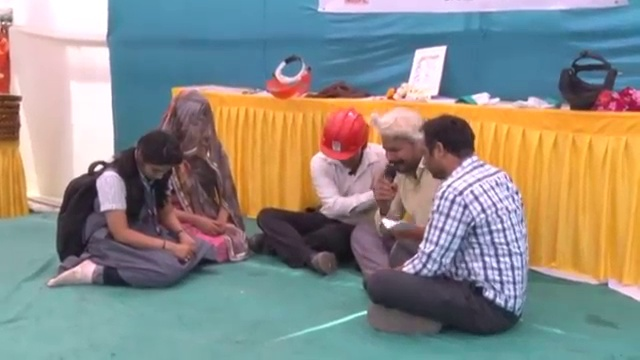helmet: (322, 111, 376, 163)
helmet_off: (418, 113, 479, 185), (165, 88, 218, 164), (375, 108, 428, 180), (126, 131, 182, 187)
helmet_on: (319, 109, 370, 177)
person: (348, 106, 539, 334), (50, 126, 202, 294), (256, 112, 380, 266), (156, 83, 248, 269), (350, 104, 444, 280)
